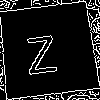Z: (23, 24, 58, 75)
